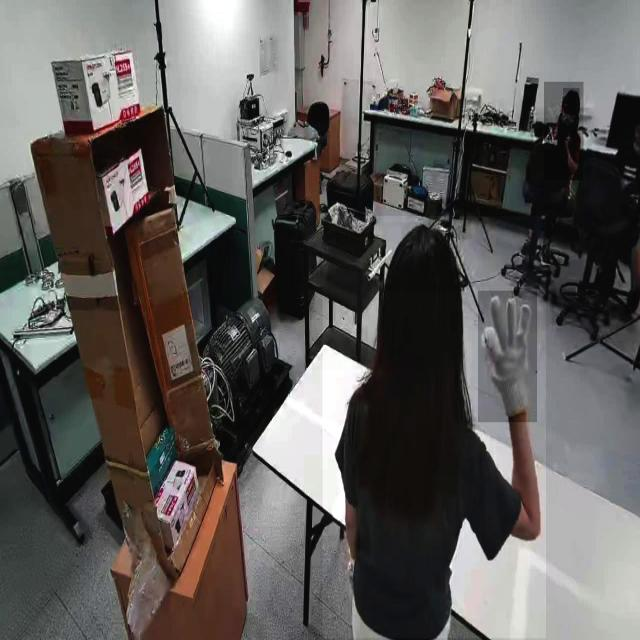face_mask: (562, 97, 578, 137)
hand_glove: (478, 291, 537, 422)
head_nohelmet: (382, 222, 462, 294), (563, 88, 580, 105)
person: (322, 216, 546, 639), (544, 82, 584, 181)
